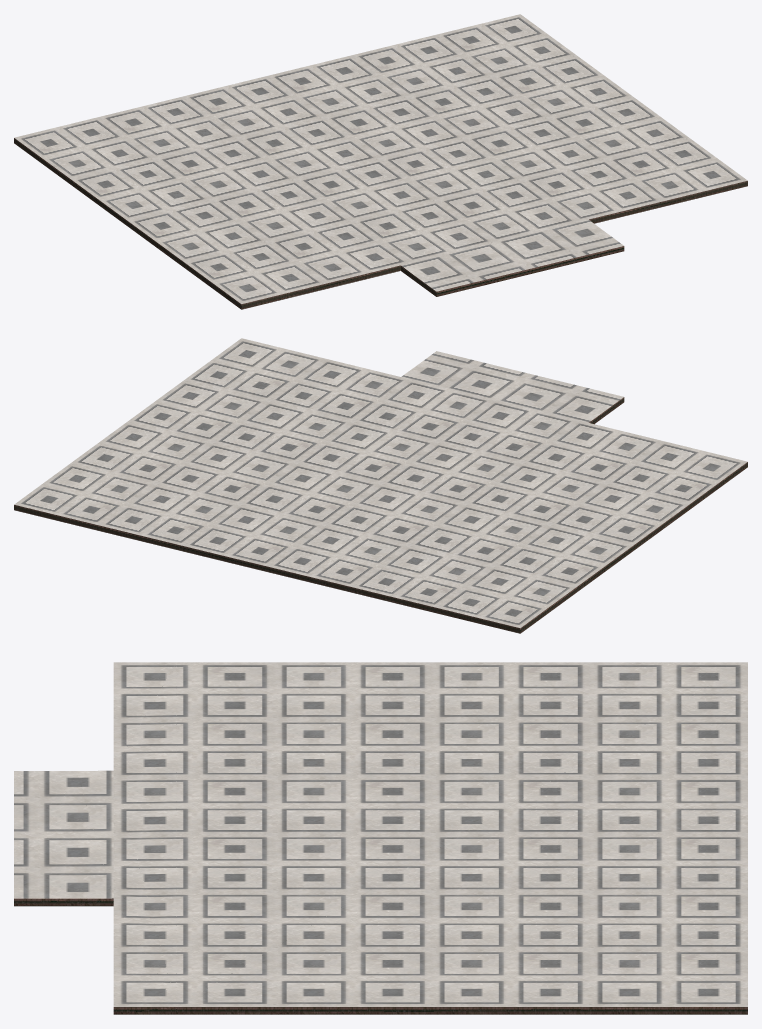
The model's file is Launch_Building_Exterior_Roof_Art.fbx.
The picture shows the model from 3 angles, top to bottom: view 1: azimuth 30°, elevation 25°; view 2: azimuth 150°, elevation 25°; view 3: azimuth 270°, elevation 25°; orthographic projection. The views are drawn at different scales.
Visible parts, largest first — view 1: Launch_Building_Exterior_Roof; view 2: Launch_Building_Exterior_Roof; view 3: Launch_Building_Exterior_Roof.
Boxes of the visible parts, x1,y1,x2,y2 form: Launch_Building_Exterior_Roof: (14, 14, 747, 309); Launch_Building_Exterior_Roof: (14, 338, 747, 633); Launch_Building_Exterior_Roof: (14, 662, 747, 1014).
Size of the model in its own units: 3705 by 38.84 by 3335.
